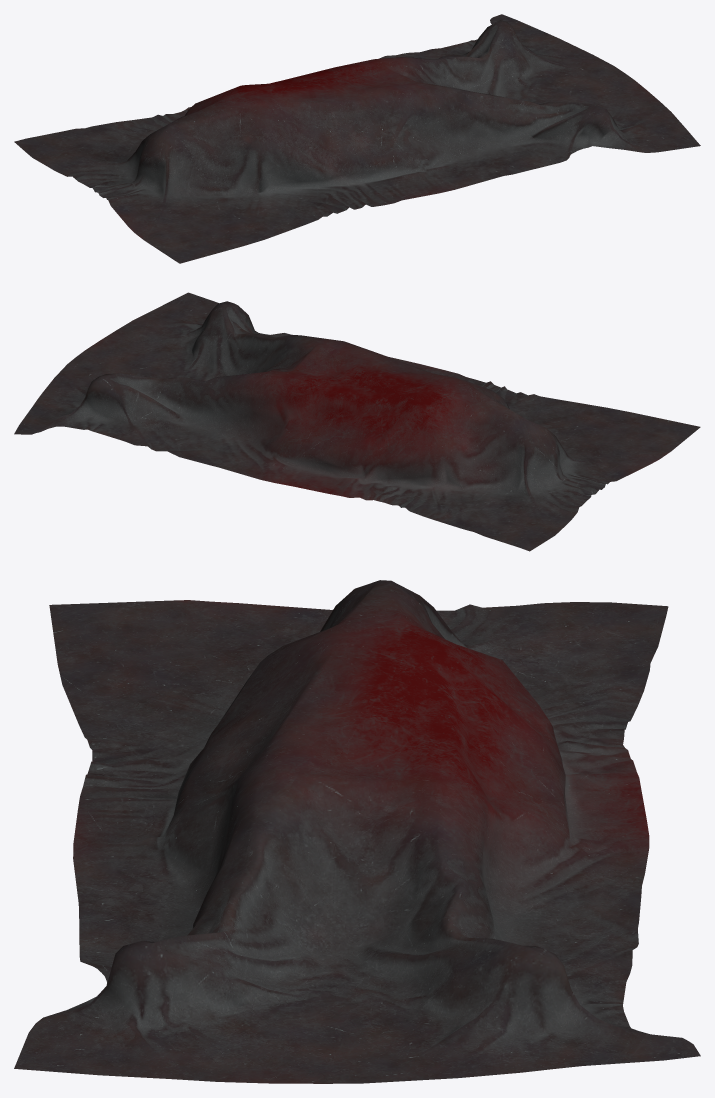
The picture shows the model from 3 angles, top to bottom: view 1: azimuth 30°, elevation 25°; view 2: azimuth 150°, elevation 25°; view 3: azimuth 270°, elevation 25°; orthographic projection. The views are drawn at different scales.
Parts seen in each view (by area): view 1: DeadBodyCovered; view 2: DeadBodyCovered; view 3: DeadBodyCovered.
Boxes of the visible parts, x1,y1,x2,y2 form: DeadBodyCovered: (14,14,700,263); DeadBodyCovered: (14,292,700,551); DeadBodyCovered: (14,580,700,1083).
Size of the model in its own units: 2.43 by 0.2823 by 1.46.
Materials: 1 (1 with a texture image).
